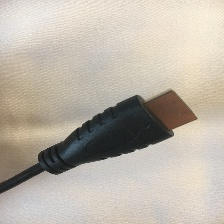hdmi_male: (43, 82, 161, 187)
